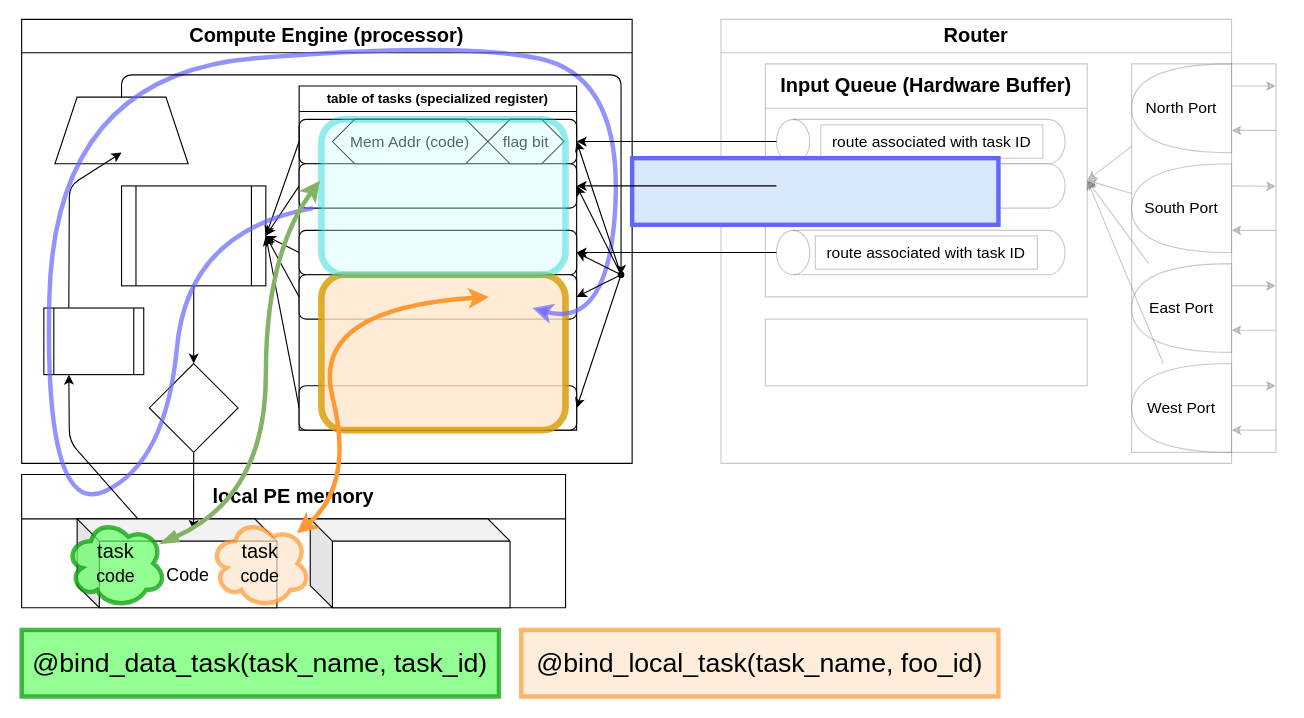
Image size: 1304x718. Some labels were removed from this diagram. Here are the shapes that lost their labels. From the top down, the centre of each, then its label:
At (121,130): "ALU".
At (442,196): "Data Task".
At (814,190): "@activate (foo_id)".
At (193,235): "Select Logic (task picker)".
At (93,341): "Decode".
At (442,352): "Local Task".
At (925,352): "Mechanism to send".
At (193,407): "PC".
At (409,563): "Data".
